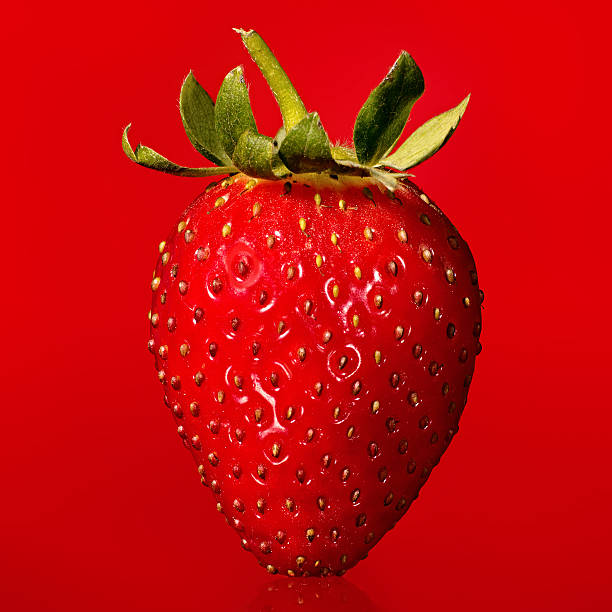Fresa: (145, 126, 491, 580)
